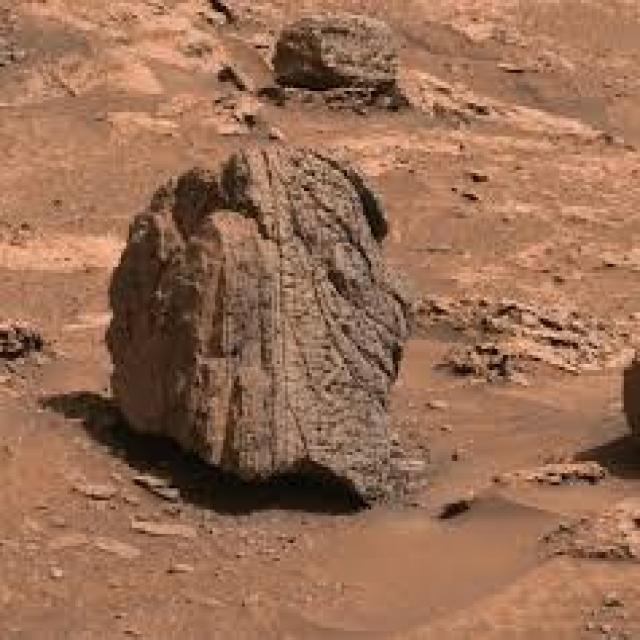red-sand: (0, 0, 637, 637)
stone: (105, 143, 419, 497), (269, 12, 406, 106)
